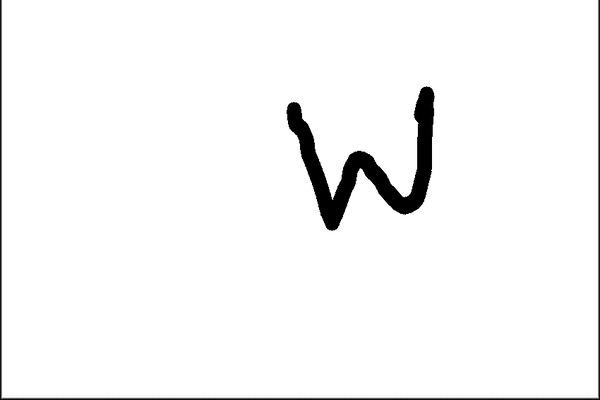w: (251, 73, 444, 244)
